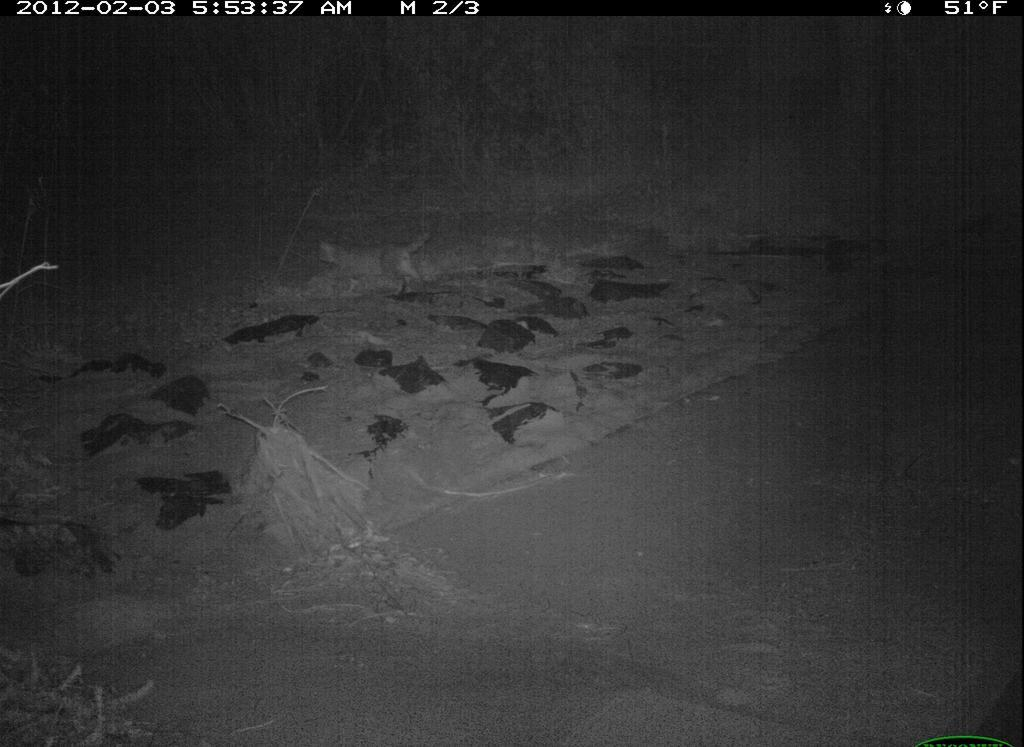cat: (310, 221, 443, 308)
